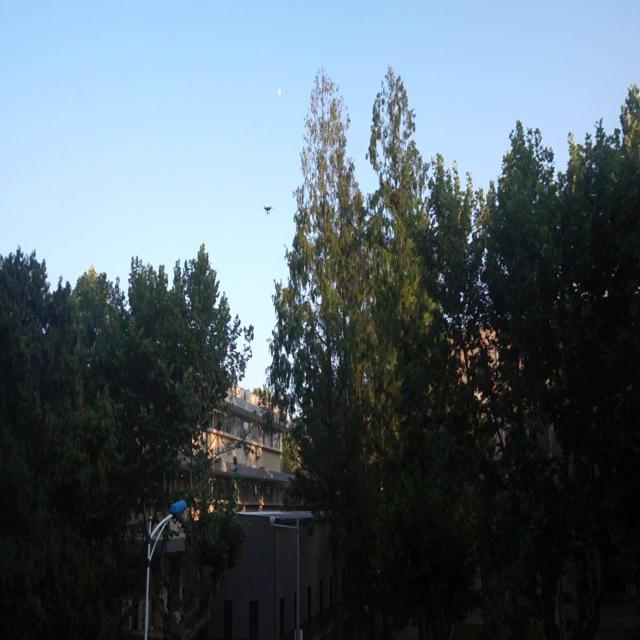drone: (260, 202, 275, 220)
